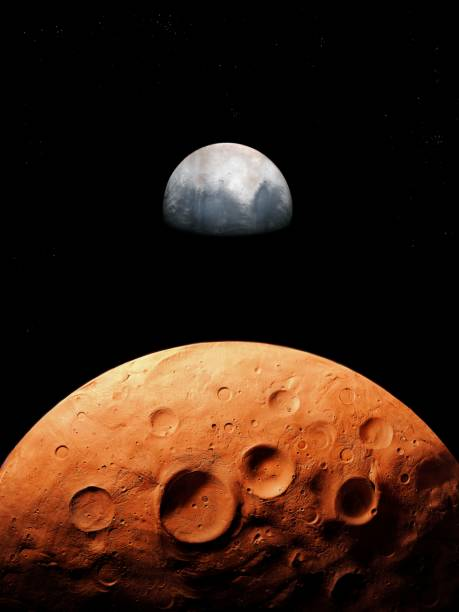crater: (158, 466, 237, 545), (237, 445, 300, 499), (333, 475, 381, 529), (70, 486, 121, 532)
